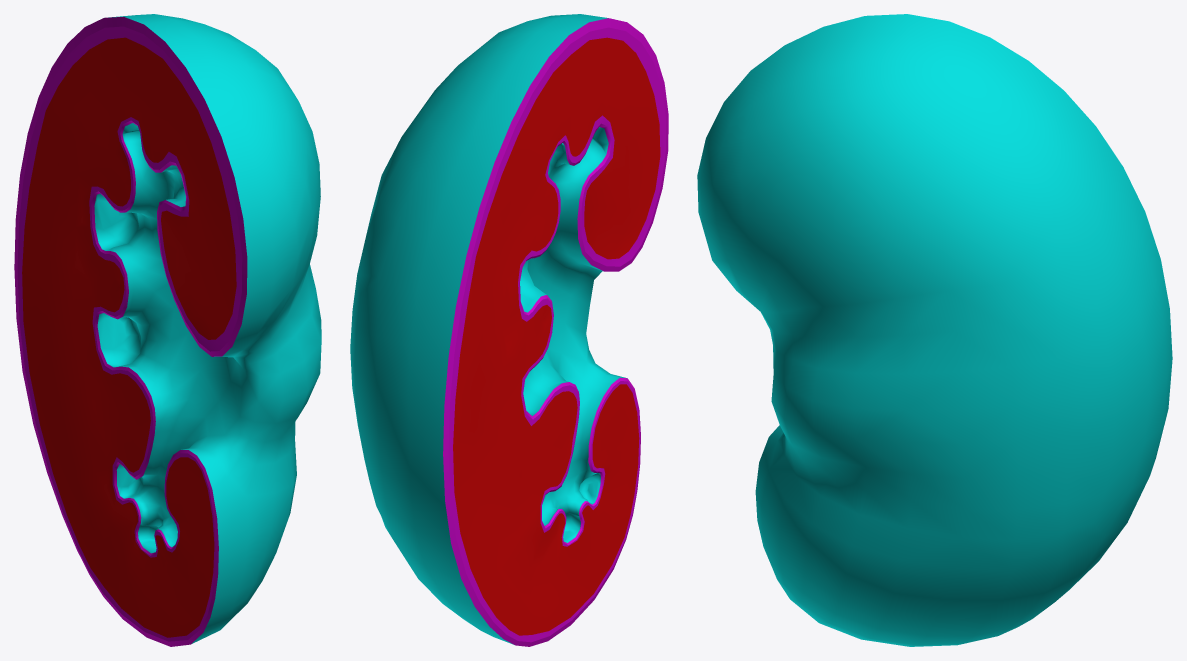
The model's file is corte_rinon.glb.
3 views of the same model, side by side, from view 1: azimuth 30°, elevation 25°; view 2: azimuth 150°, elevation 25°; view 3: azimuth 270°, elevation 25° (orthographic). The views are drawn at different scales.
Visible parts, largest first — view 1: RINON_COMPLETO.001; view 2: RINON_COMPLETO.001; view 3: RINON_COMPLETO.001.
Part boxes in pixels (left/top/right/bottom): RINON_COMPLETO.001: left=14, top=14, right=321, bottom=646; RINON_COMPLETO.001: left=350, top=14, right=668, bottom=646; RINON_COMPLETO.001: left=697, top=14, right=1172, bottom=646.
Bounding box in the file's own units: 0.6942 × 2.41 × 1.66.
